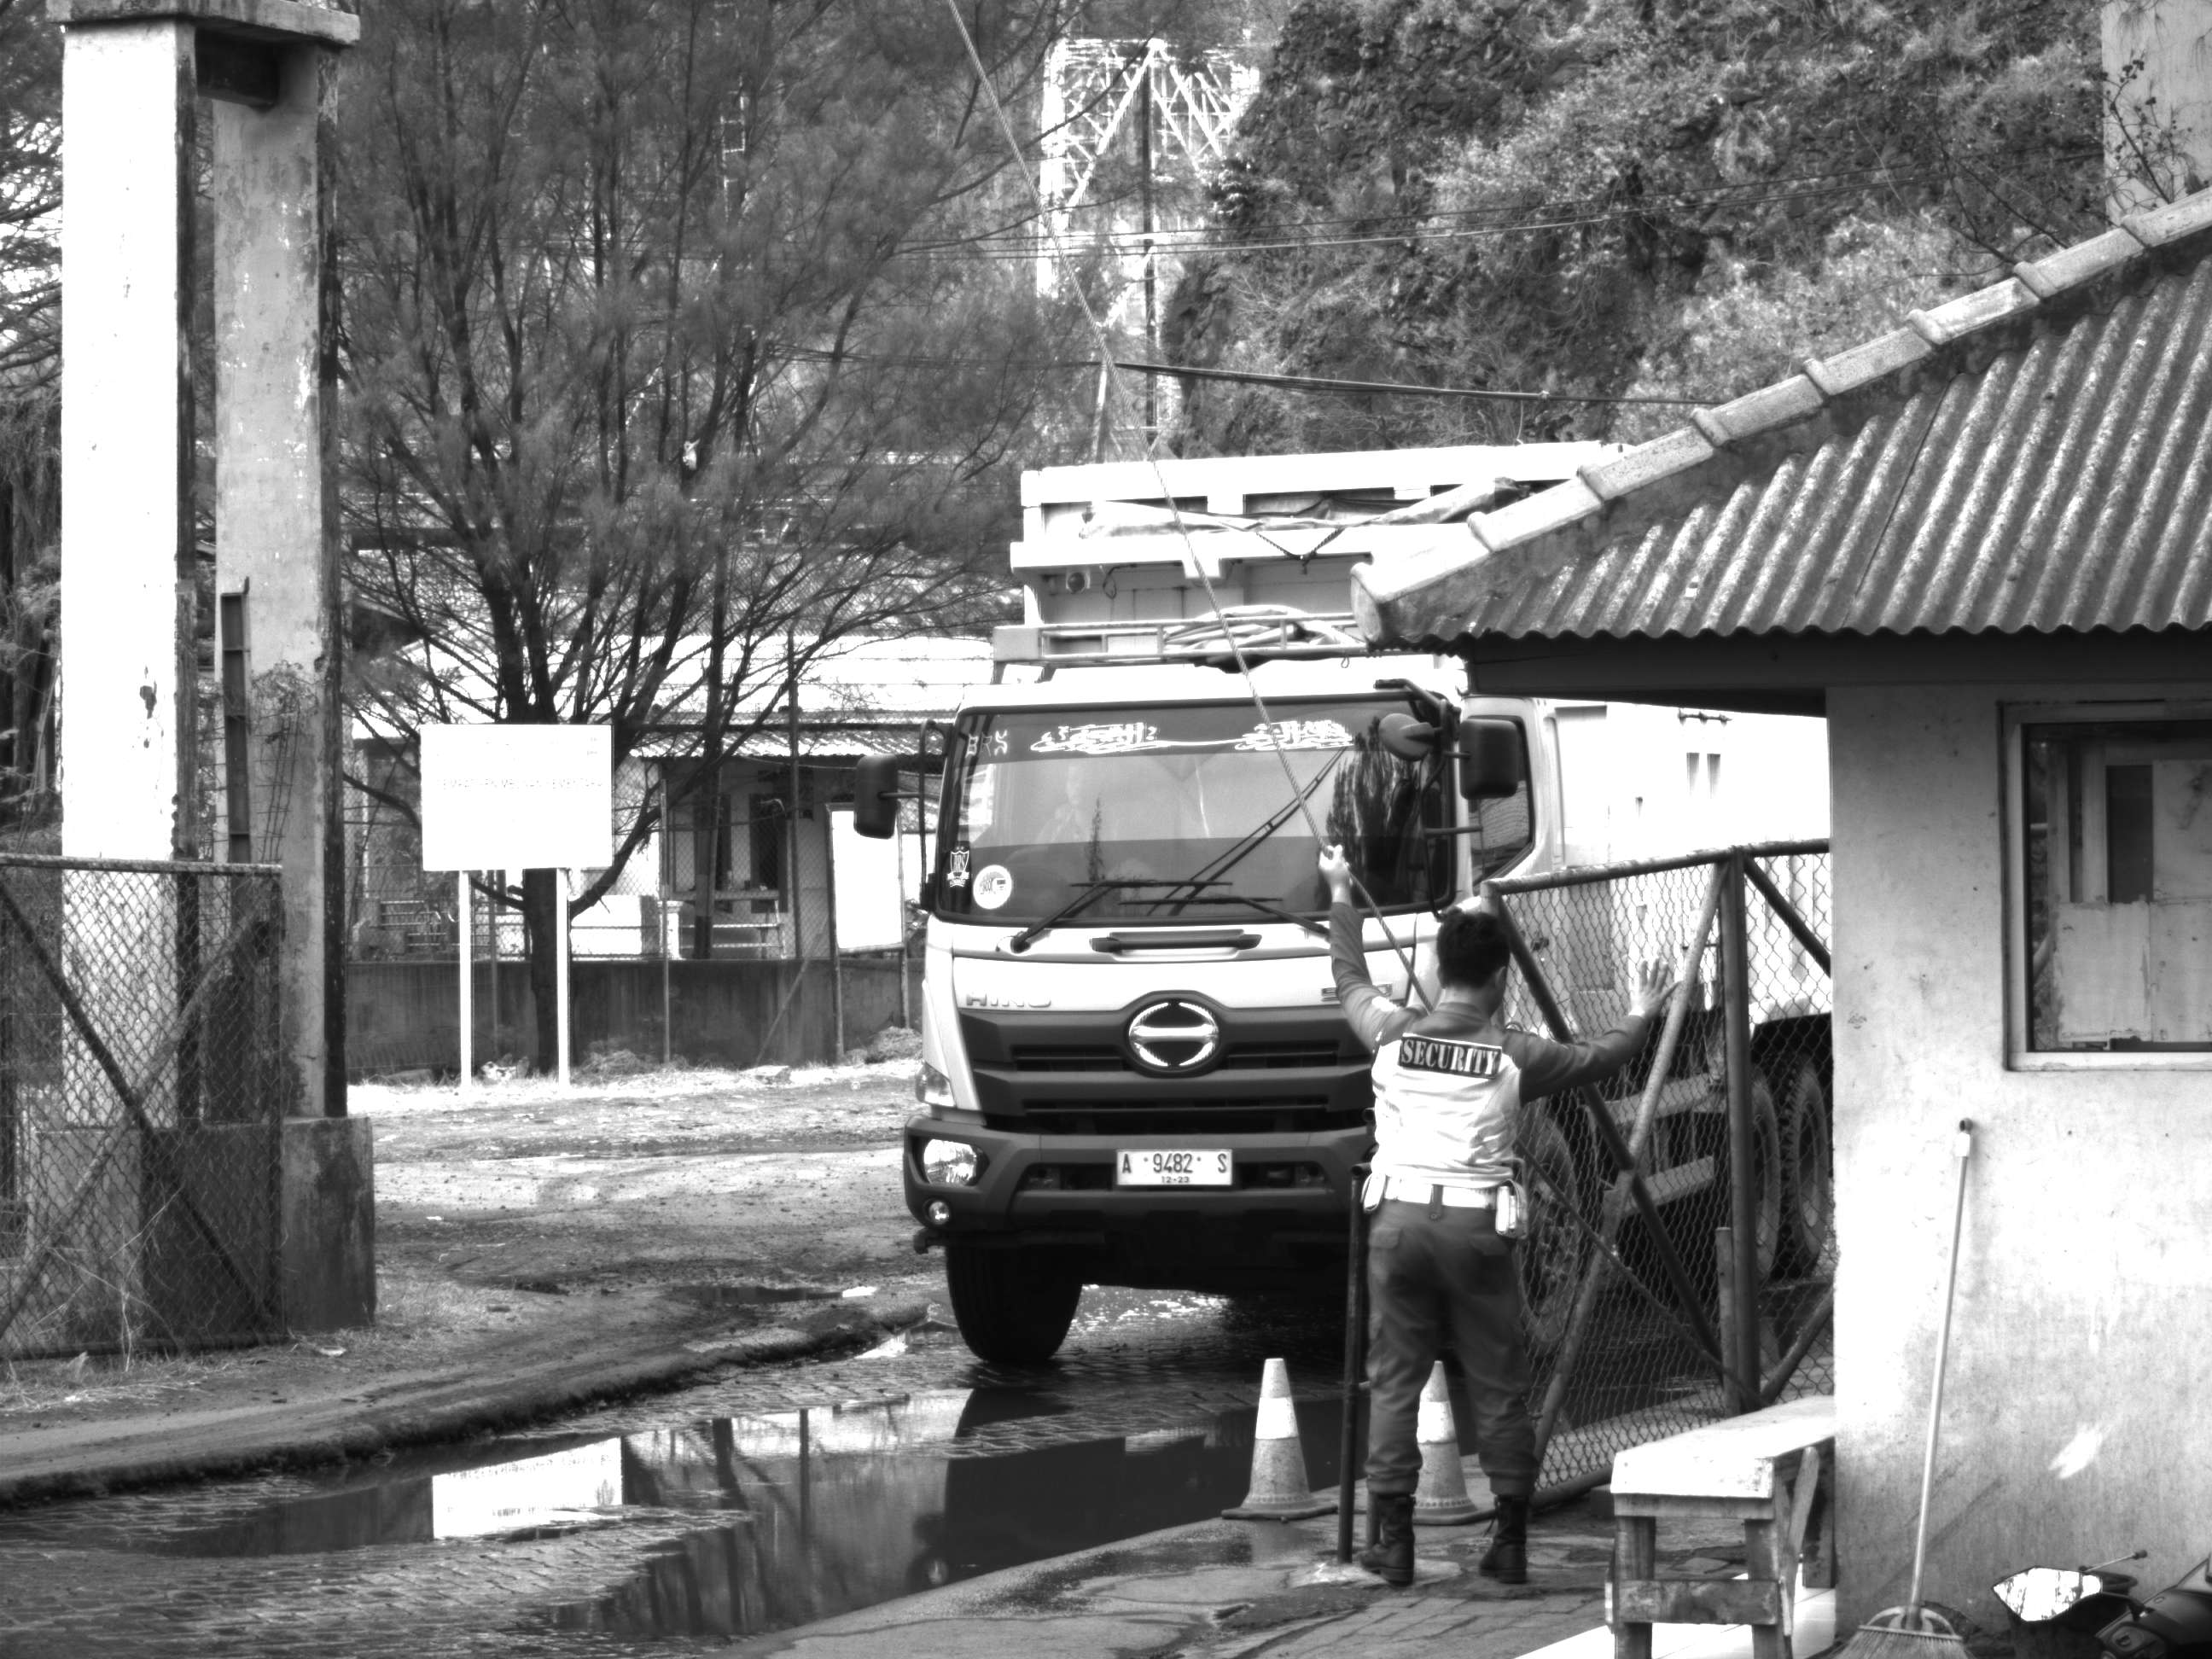day_truck_front: (836, 608, 1616, 1371)
plate: (1115, 1142, 1236, 1188)
